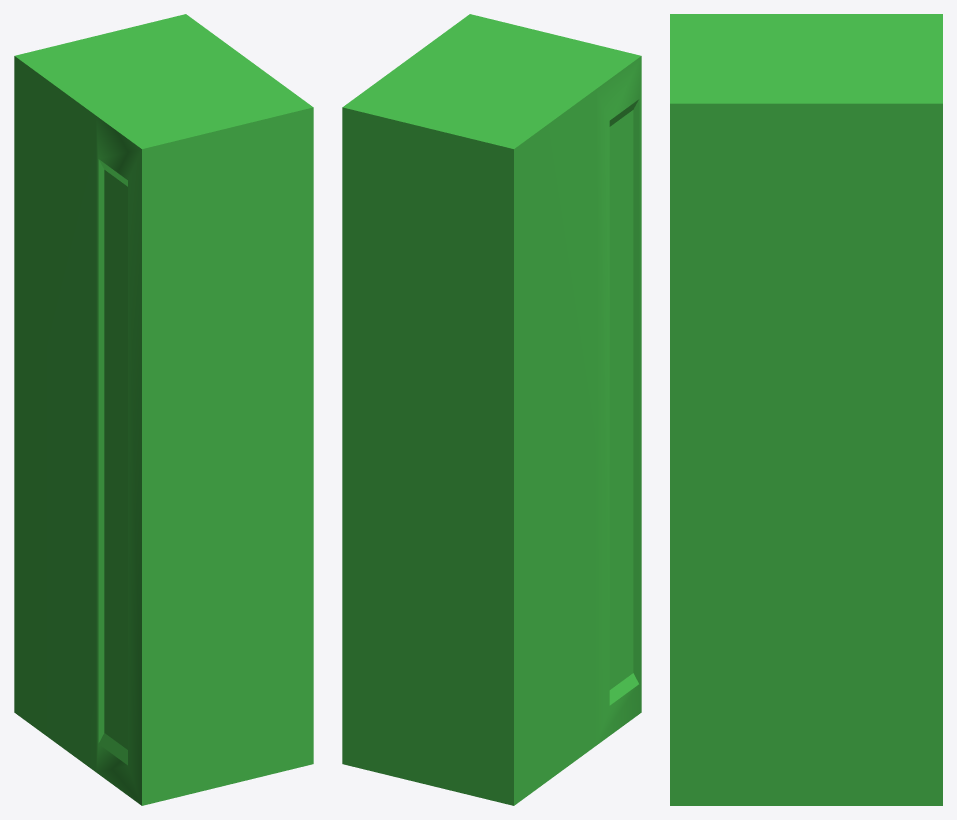
The model's file is Lever_Special_01_Base.fbx.
3 views of the same model, side by side, from view 1: azimuth 30°, elevation 25°; view 2: azimuth 150°, elevation 25°; view 3: azimuth 270°, elevation 25° (orthographic). The views are drawn at different scales.
Visible parts, largest first — view 1: Lever_Special_01_Base; view 2: Lever_Special_01_Base; view 3: Lever_Special_01_Base.
Part boxes in pixels (bbox=[...]): Lever_Special_01_Base: bbox=[14, 14, 313, 805]; Lever_Special_01_Base: bbox=[342, 14, 641, 805]; Lever_Special_01_Base: bbox=[670, 14, 942, 805].
Size of the model in its own units: 3 by 10.6 by 3.73.
